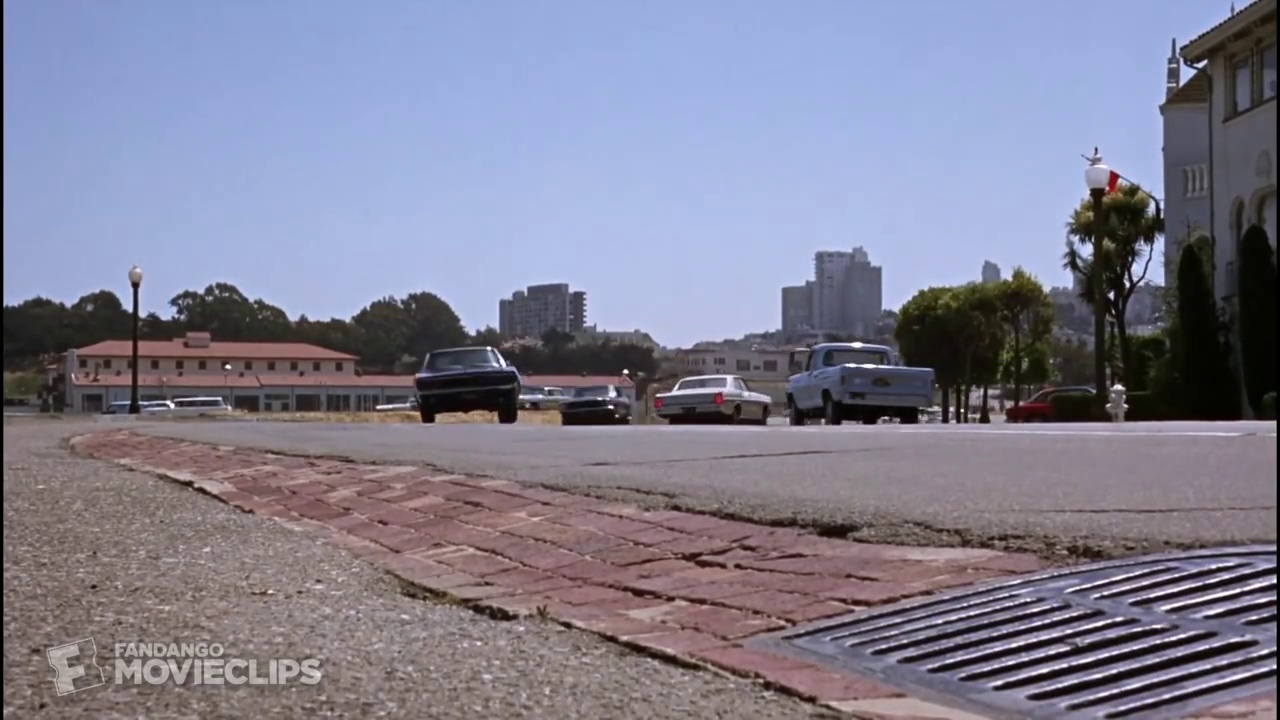car: (400, 335, 530, 434), (644, 364, 780, 435), (994, 373, 1099, 429), (553, 376, 638, 434), (506, 371, 578, 416), (133, 391, 235, 422), (127, 391, 177, 422), (94, 394, 136, 420)
fire hydrant: (1093, 377, 1141, 429)
truck: (763, 335, 953, 438)
